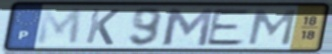9: (127, 6, 162, 48)
E: (203, 8, 254, 47)
K: (83, 7, 122, 47)
M: (160, 6, 216, 48), (244, 8, 299, 47), (35, 7, 84, 46)
